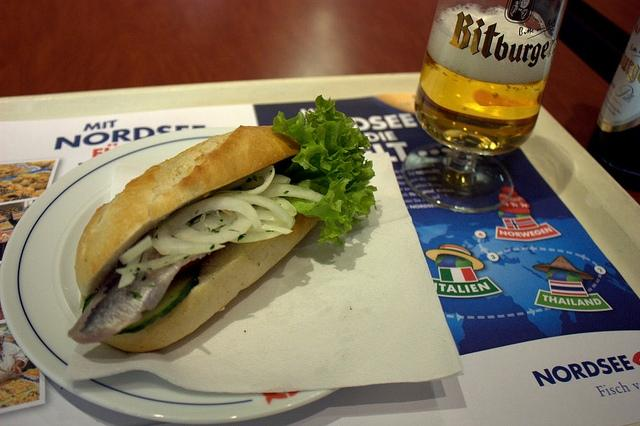lettuce: (274, 96, 378, 248)
onion: (152, 196, 262, 255), (213, 193, 294, 226), (172, 212, 252, 244), (213, 165, 275, 195), (228, 216, 296, 242), (116, 254, 189, 276), (256, 184, 324, 203), (117, 253, 142, 289), (120, 236, 152, 264), (190, 213, 238, 230), (251, 204, 283, 221), (270, 196, 296, 216)
